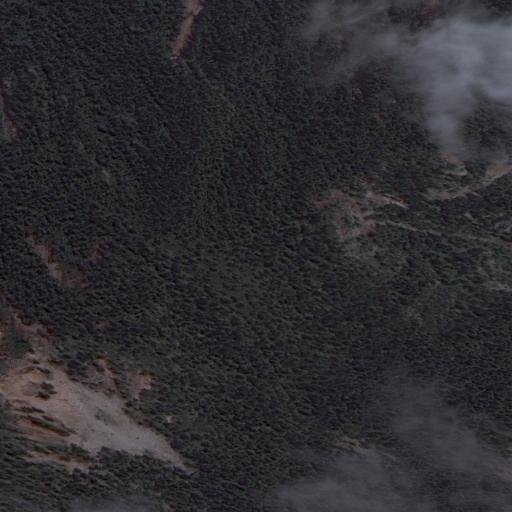landslide: (1, 306, 194, 478)
